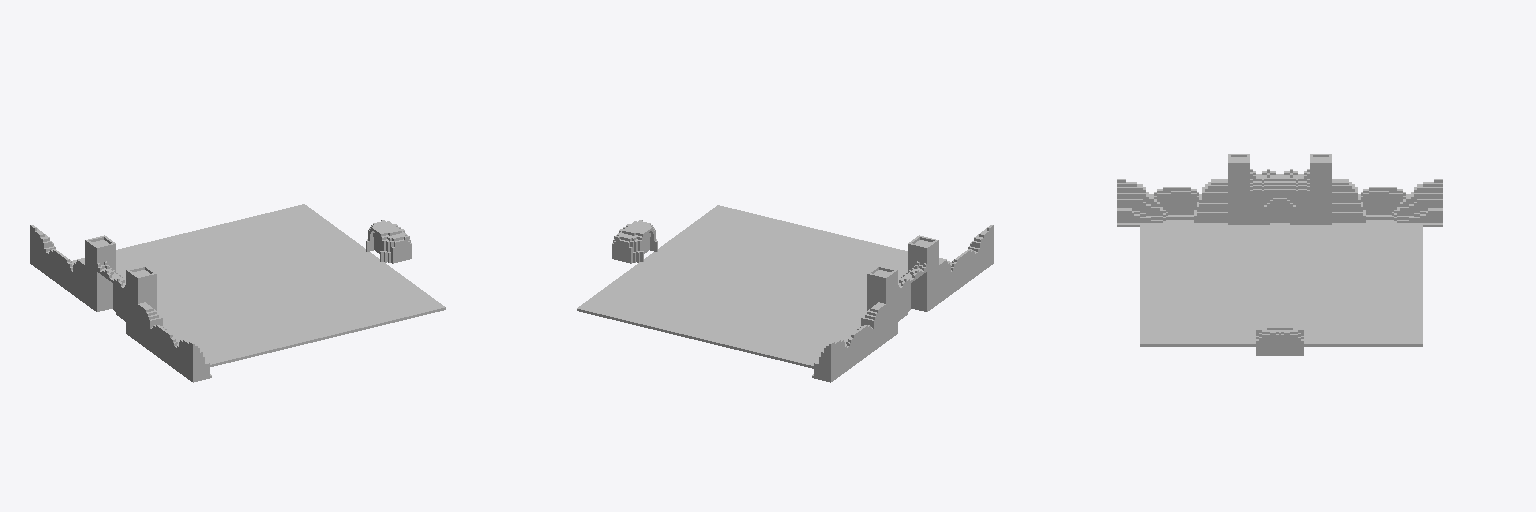
Rendered from tower defence map.obj.
The picture shows the model from 3 angles: view 1: azimuth 30°, elevation 25°; view 2: azimuth 150°, elevation 25°; view 3: azimuth 270°, elevation 25°; orthographic projection.
Visible parts, largest first — view 1: object 1; view 2: object 1; view 3: object 1.
Part boxes in pixels (bbox=[...]): object 1: bbox=[30, 204, 445, 382]; object 1: bbox=[577, 205, 993, 382]; object 1: bbox=[1117, 154, 1442, 355].
Bounding box in the file's own units: 11.8 × 2.5 × 11.5.